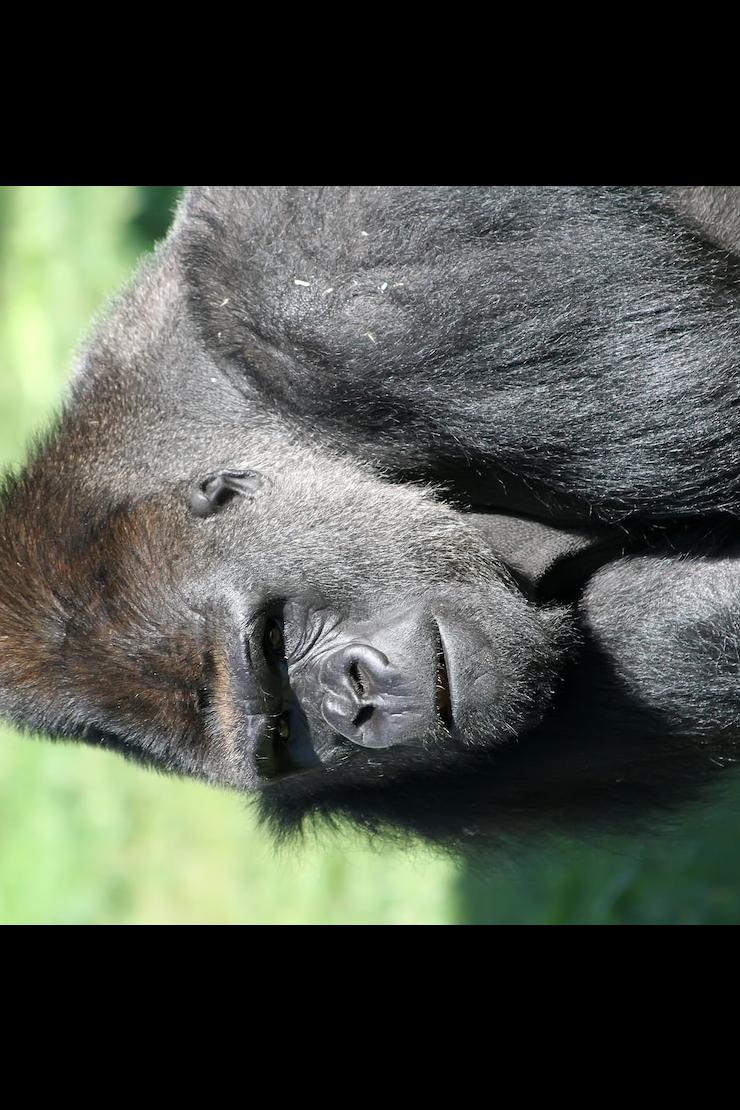gorille_Autres: (0, 185, 740, 922)
